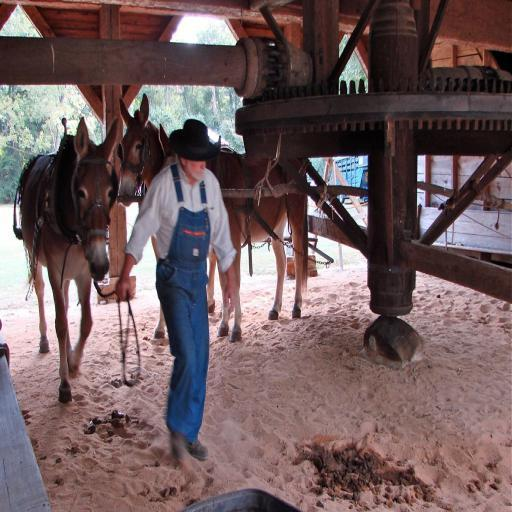horse: (118, 98, 308, 347), (18, 115, 118, 404)
